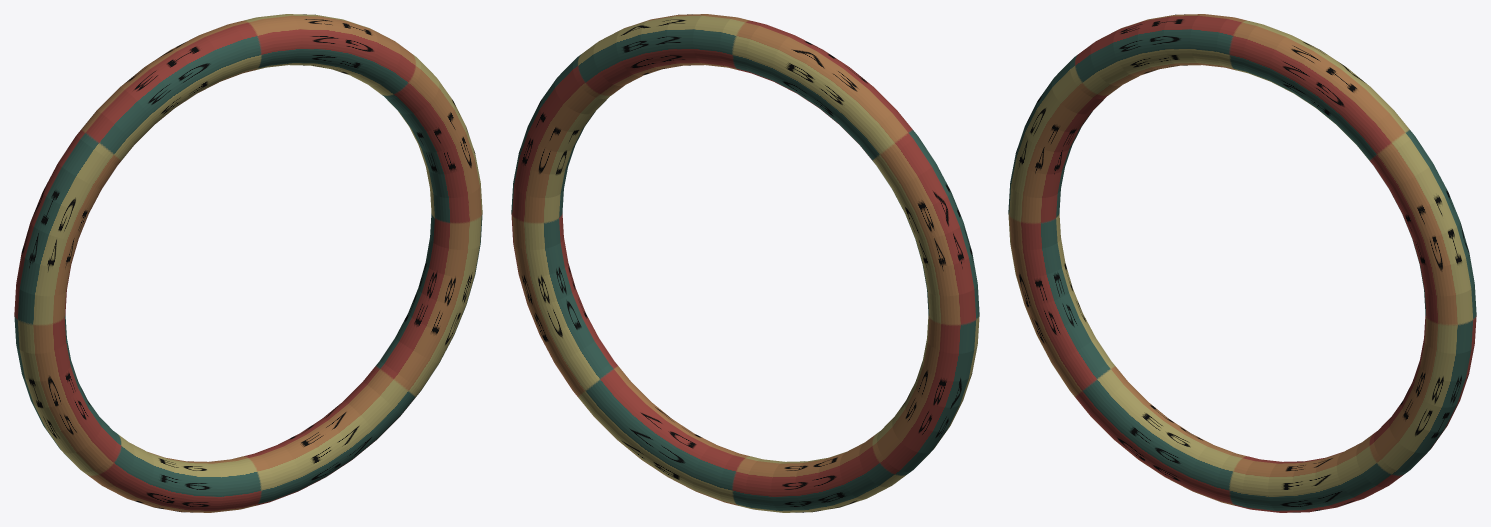
File: texture_torus_R17_r1.glb
3 views of the same model, side by side, from view 1: azimuth 30°, elevation 25°; view 2: azimuth 150°, elevation 25°; view 3: azimuth 330°, elevation 25° (orthographic).
Parts seen in each view (by area): view 1: world; view 2: world; view 3: world.
Boxes of the visible parts, x1,y1,x2,y2 form: world: (14, 14, 482, 512); world: (511, 14, 979, 512); world: (1008, 14, 1476, 512).
Size of the model in its own units: 23.6 by 23.55 by 2.26.
1 material, 1 textured.
